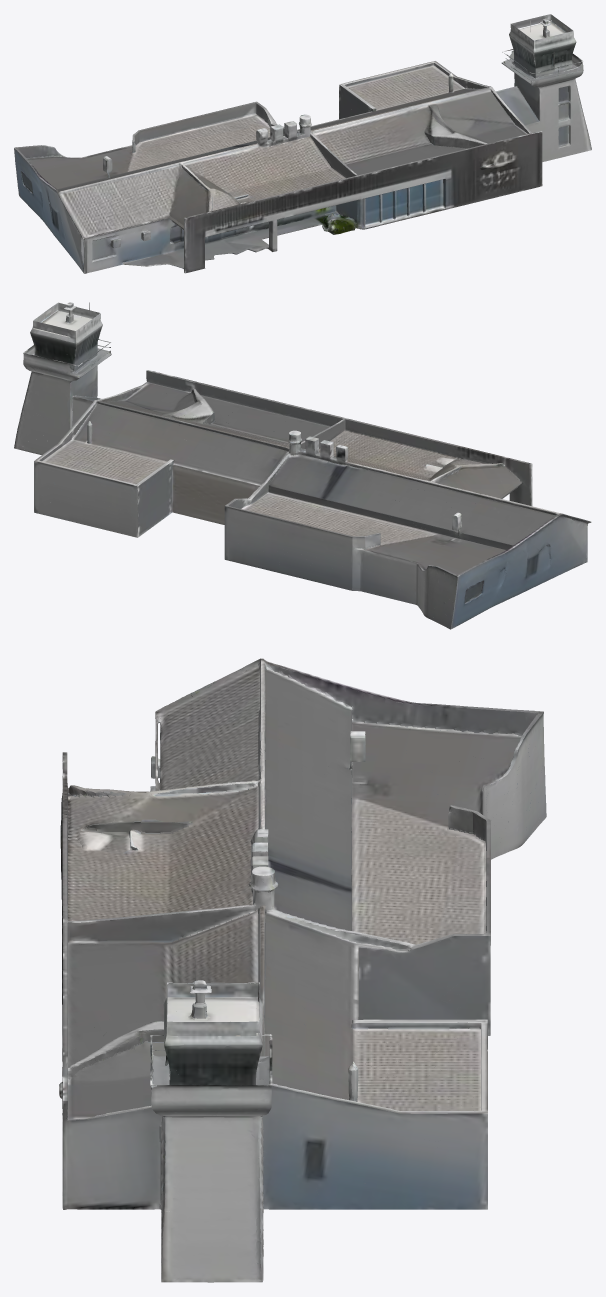
Rendered from term-m.glb.
3 renders of one model, top to bottom at view 1: azimuth 30°, elevation 25°; view 2: azimuth 150°, elevation 25°; view 3: azimuth 270°, elevation 25°, orthographic. The views are drawn at different scales.
Parts seen in each view (by area): view 1: Object_3, Object_4, Object_2; view 2: Object_3, Object_4, Object_2; view 3: Object_3, Object_4, Object_2.
Boxes of the visible parts, x1=… form: Object_3: x1=27, y1=14, x2=591, y2=273; Object_4: x1=14, y1=14, x2=582, y2=273; Object_2: x1=21, y1=20, x2=582, y2=266; Object_3: x1=14, y1=302, x2=555, y2=627; Object_4: x1=14, y1=302, x2=591, y2=629; Object_2: x1=17, y1=304, x2=590, y2=629; Object_3: x1=59, y1=660, x2=544, y2=1282; Object_4: x1=60, y1=658, x2=546, y2=1280; Object_2: x1=61, y1=659, x2=546, y2=1281.
Size of the model in its own units: 1.9 by 0.4862 by 0.7854.
1 material, 1 textured.
